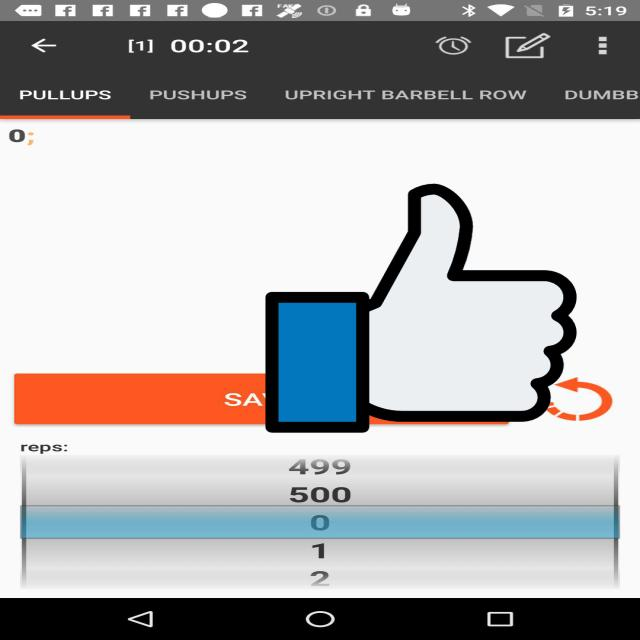privacy zuckering: (266, 178, 576, 438)
